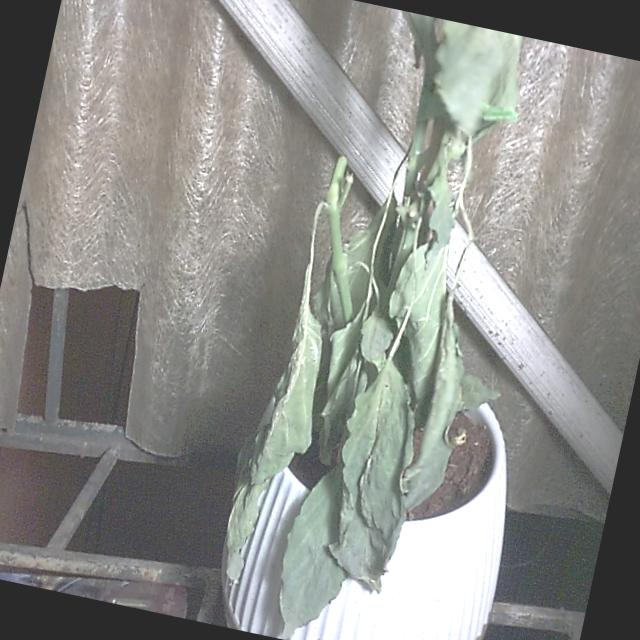Leaf: (313, 360, 436, 598), (248, 302, 339, 500)
